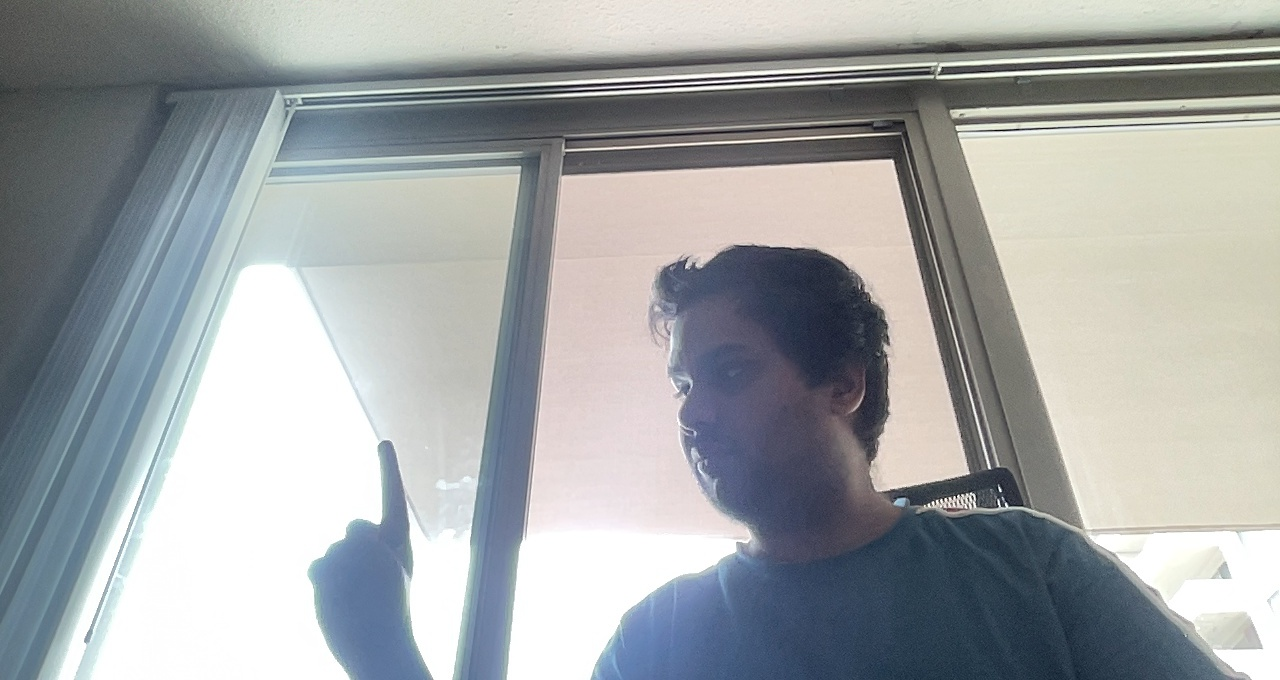fingerup: (295, 431, 432, 641)
